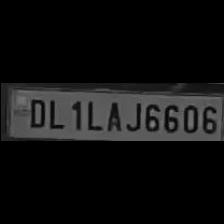0: (178, 102, 198, 134)
1: (65, 97, 83, 131)
6: (140, 101, 160, 133), (198, 102, 218, 134), (160, 100, 178, 134)
A: (102, 97, 122, 132)
D: (24, 96, 46, 128)
J: (122, 98, 140, 132)
L: (44, 96, 64, 130), (83, 97, 103, 131)
